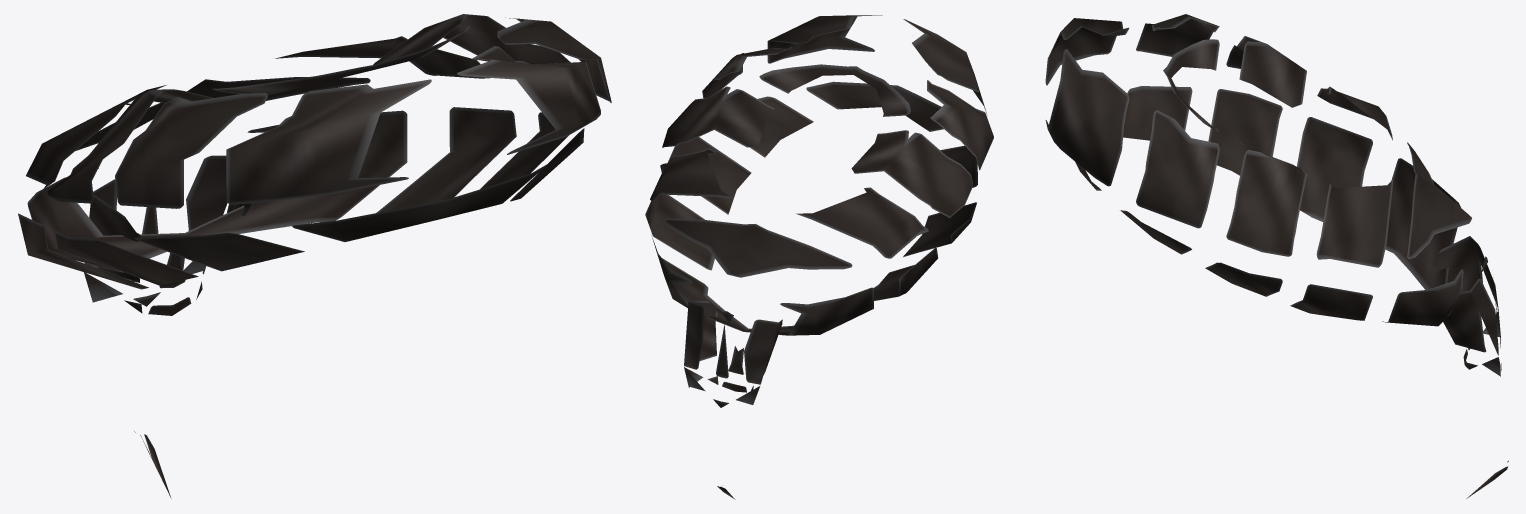
Rendered from zapo_fem_hair_1.dae.
The picture shows the model from 3 angles, left to right: view 1: azimuth 30°, elevation 25°; view 2: azimuth 150°, elevation 25°; view 3: azimuth 270°, elevation 25°; orthographic projection. The views are drawn at different scales.
Visible parts, largest first — view 1: head_female_shorthair.003; view 2: head_female_shorthair.003; view 3: head_female_shorthair.003.
Boxes of the visible parts, x1,y1,x2,y2 form: head_female_shorthair.003: [18, 14, 611, 498]; head_female_shorthair.003: [645, 15, 993, 499]; head_female_shorthair.003: [1045, 14, 1508, 498].
Size of the model in its own units: 0.5651 by 0.6488 by 0.6827.
